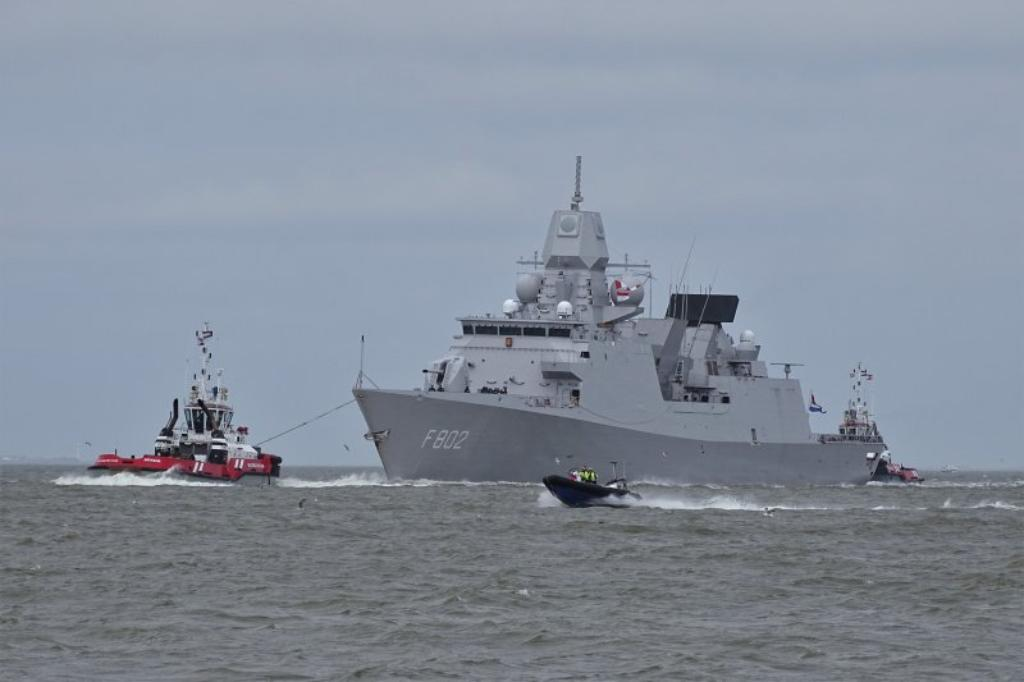Warship: (352, 146, 890, 492)
